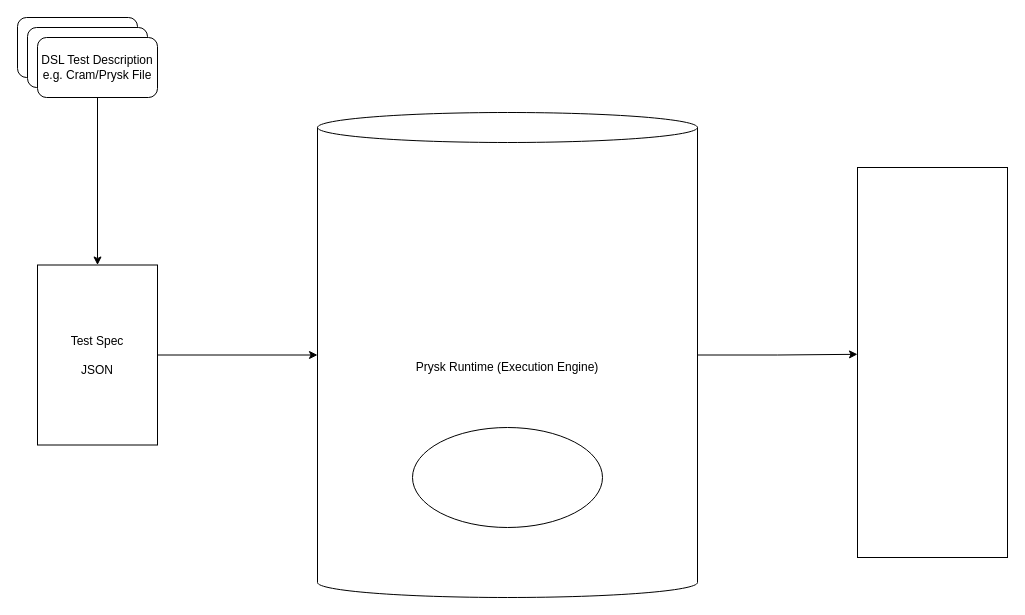
This 1025x615 diagram has some shape labels left out. Here are the shapes that lost their labels. From the top down, the box of each, then its label:
(856, 166, 1008, 558): Test Report Status
(412, 426, 602, 528): Diff Tools Text, Json, Img, ...
